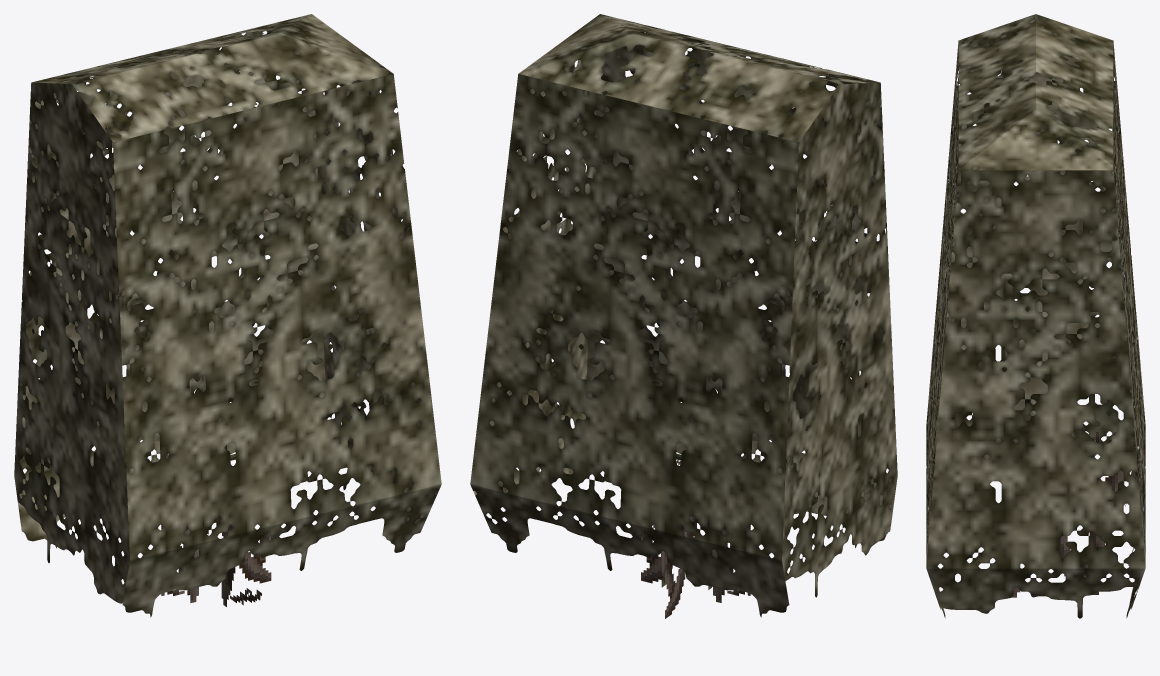
Rendered from bush_tall_half_open_right_roots_dead.fbx.
3 views of the same model, side by side, from view 1: azimuth 30°, elevation 25°; view 2: azimuth 150°, elevation 25°; view 3: azimuth 270°, elevation 25° (orthographic). The views are drawn at different scales.
Visible parts, largest first — view 1: bush_tall_half_open_right_roots_dead; view 2: bush_tall_half_open_right_roots_dead; view 3: bush_tall_half_open_right_roots_dead.
Boxes of the visible parts, bbox=[...] form: bush_tall_half_open_right_roots_dead: bbox=[14, 14, 441, 617]; bush_tall_half_open_right_roots_dead: bbox=[470, 14, 897, 618]; bush_tall_half_open_right_roots_dead: bbox=[926, 14, 1145, 618].
Bounding box in the file's own units: 112 × 188 × 71.91.
2 materials, 2 textured.
